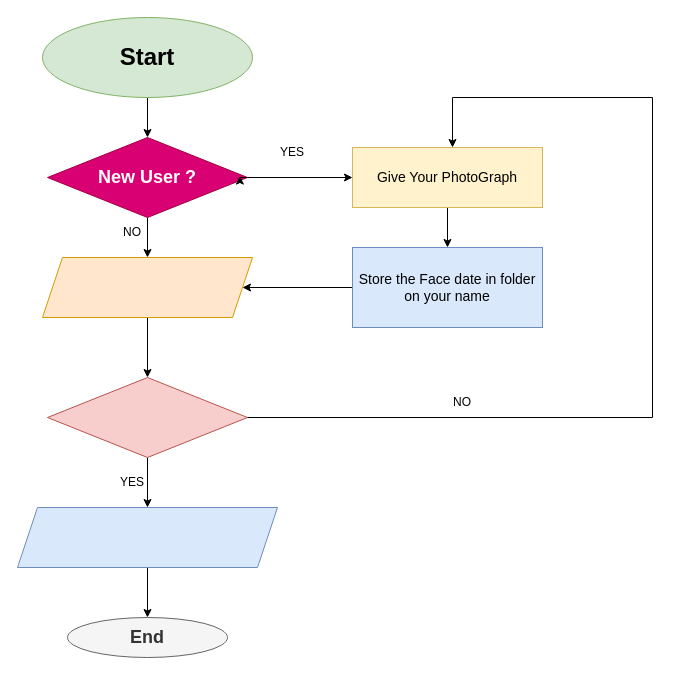
Some shapes in this 678 by 680 pixel diagram are drawn without their labels. Here are the shapes that lost their labels. From the top down, the centre of each, then its label:
pixel 147 287: Recognize the face
pixel 147 417: Face Recognized
pixel 147 537: Stored in C&V with recognized face saved with date
